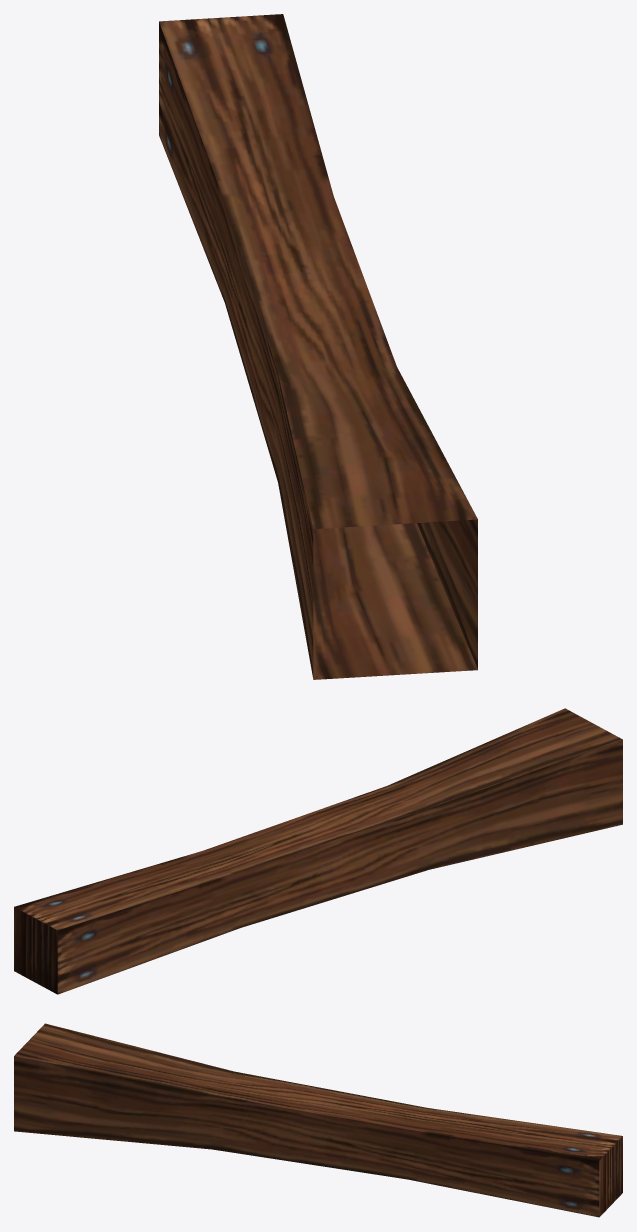
File: OVERHILL_A_01_POST22.fbx
3 renders of one model, top to bottom at view 1: azimuth 30°, elevation 25°; view 2: azimuth 150°, elevation 25°; view 3: azimuth 270°, elevation 25°, orthographic. The views are drawn at different scales.
Parts seen in each view (by area): view 1: OVERHILL_A_01_POST22; view 2: OVERHILL_A_01_POST22; view 3: OVERHILL_A_01_POST22.
Part boxes in pixels (<box>): OVERHILL_A_01_POST22: <box>159,14,477,679</box>; OVERHILL_A_01_POST22: <box>14,708,622,994</box>; OVERHILL_A_01_POST22: <box>14,1023,622,1217</box>.
Size of the model in its own units: 8099 by 2225 by 16296.
1 material, 1 textured.
